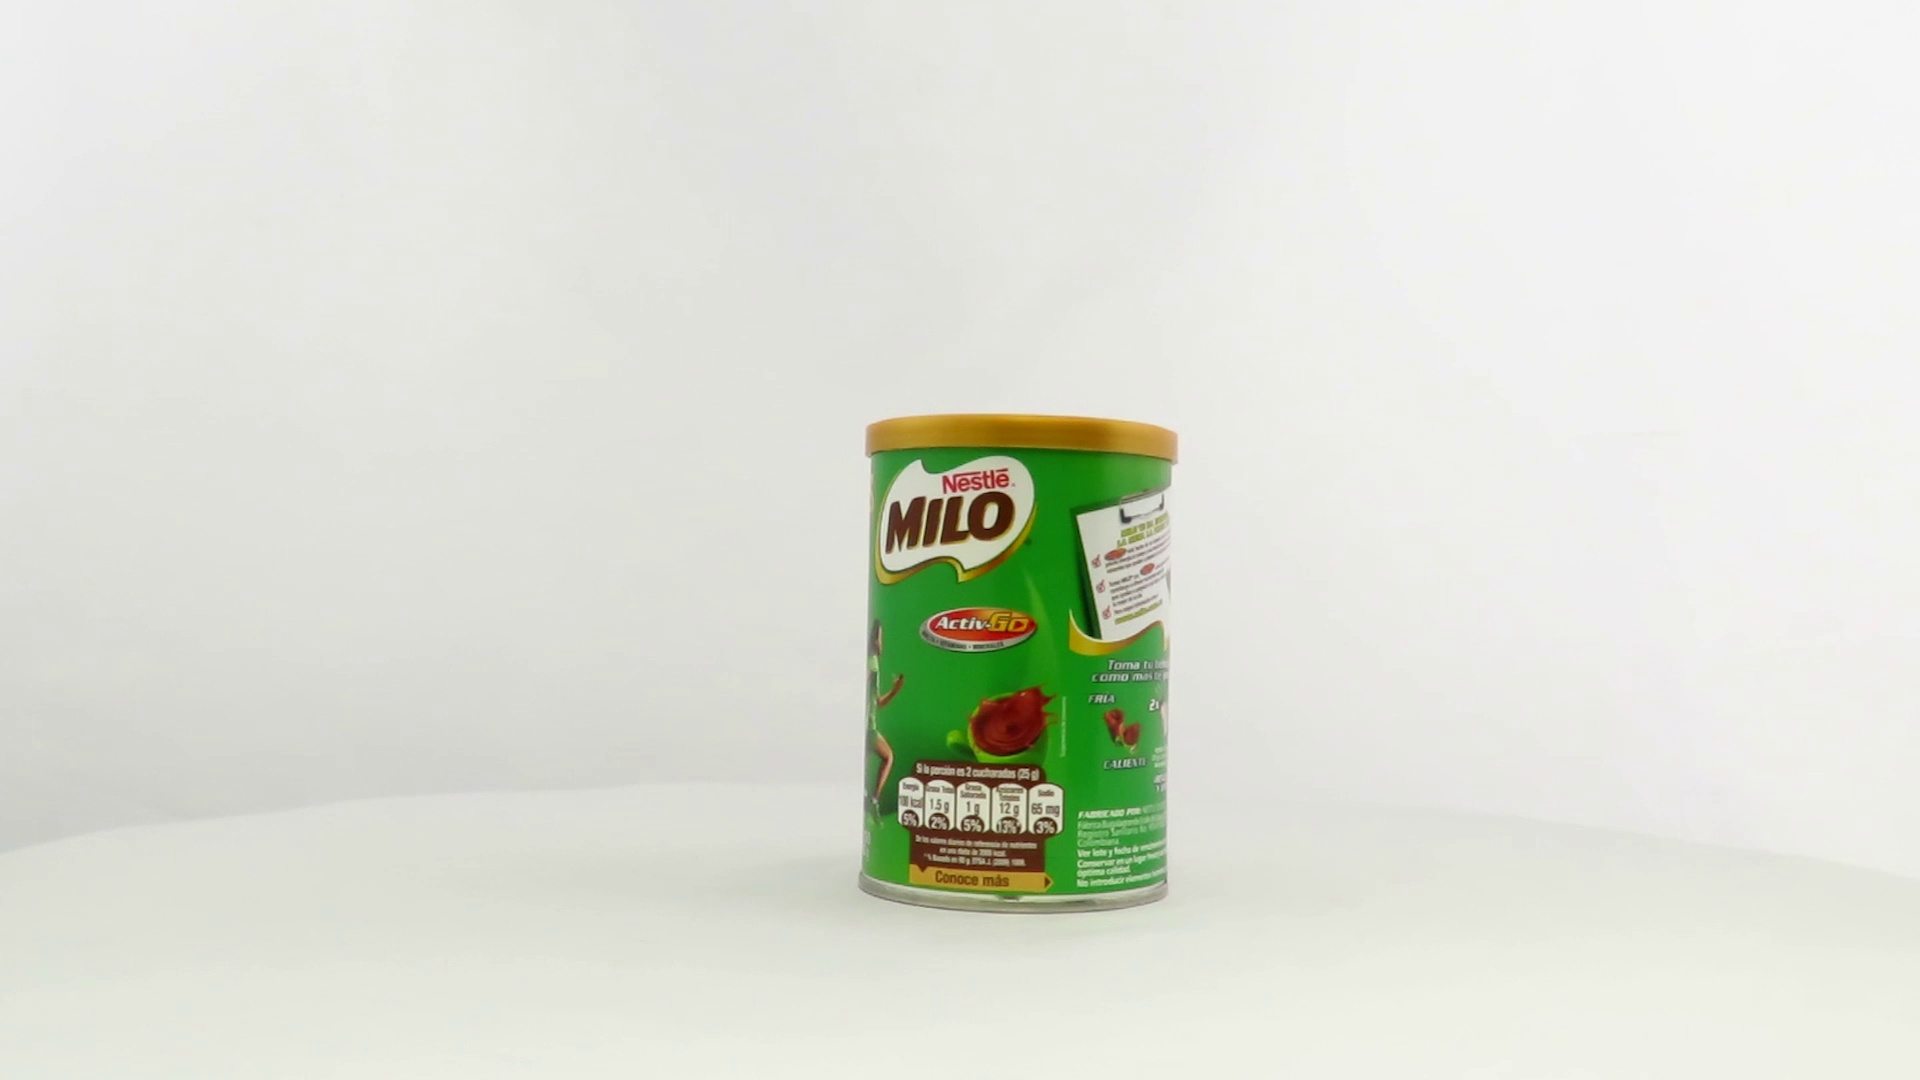COL0170203LAT20000: (851, 407, 1184, 920)
